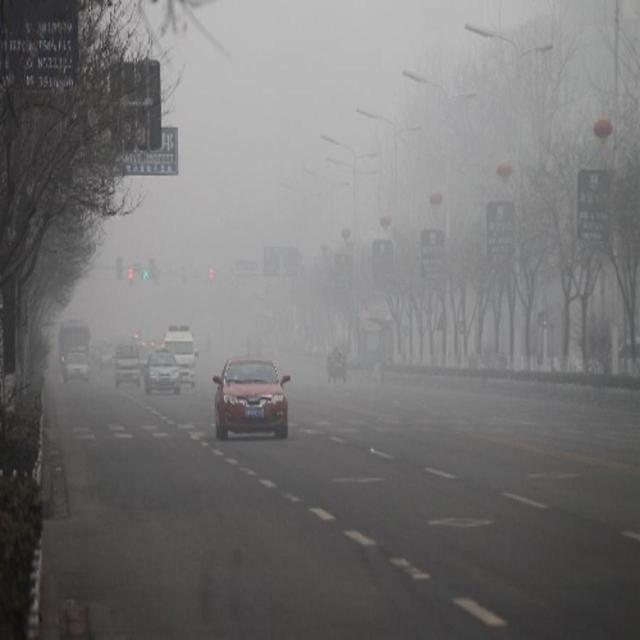Car: (215, 357, 290, 436), (166, 322, 197, 384), (145, 350, 182, 395), (114, 342, 139, 388)
Truck: (61, 319, 90, 383)
